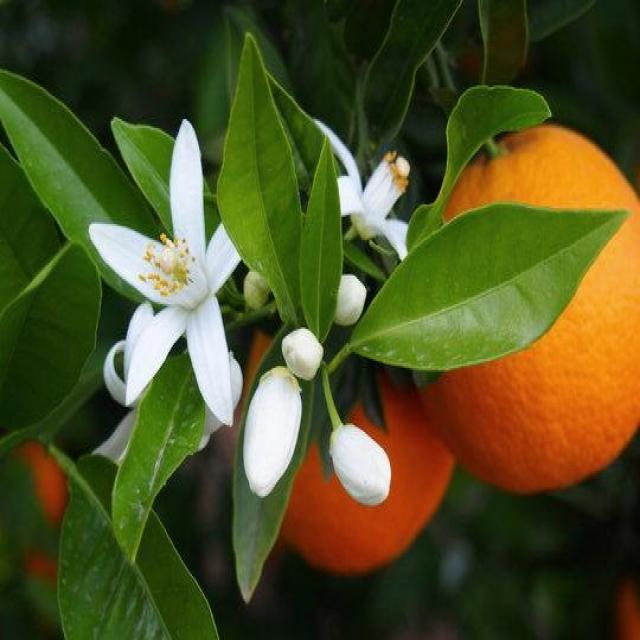Bunga: (90, 117, 260, 427), (310, 115, 428, 264), (246, 364, 304, 502), (328, 419, 392, 506), (282, 329, 325, 382), (330, 275, 368, 329), (244, 268, 273, 308)
Jeruk Sudah Matang: (411, 117, 640, 496), (245, 248, 468, 580)
